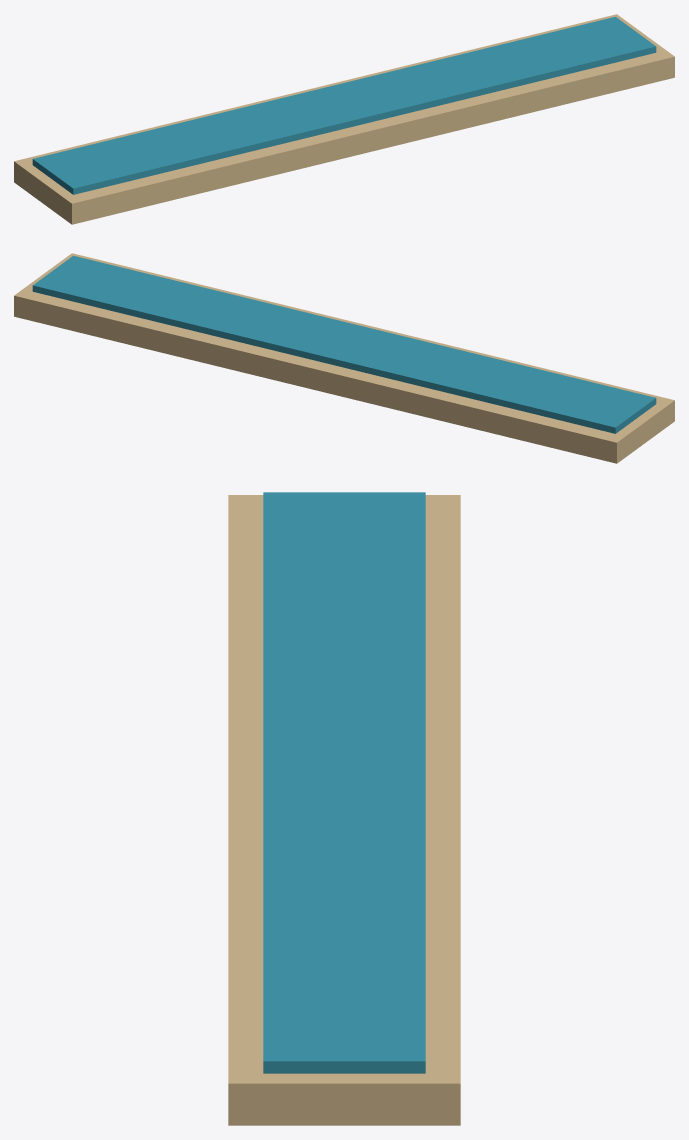
The model's file is Irrigation-channels.glb.
The picture shows the model from 3 angles, top to bottom: view 1: azimuth 30°, elevation 25°; view 2: azimuth 150°, elevation 25°; view 3: azimuth 270°, elevation 25°; orthographic projection. The views are drawn at different scales.
Visible parts, largest first — view 1: irrigation-channels-static-channel-water, irrigation-channels-static-channel-stone; view 2: irrigation-channels-static-channel-water, irrigation-channels-static-channel-stone; view 3: irrigation-channels-static-channel-water, irrigation-channels-static-channel-stone.
Part boxes in pixels (x1,y1,x2,y2): irrigation-channels-static-channel-water: (32, 16, 656, 194); irrigation-channels-static-channel-stone: (14, 14, 674, 224); irrigation-channels-static-channel-water: (32, 255, 656, 433); irrigation-channels-static-channel-stone: (14, 253, 674, 463); irrigation-channels-static-channel-water: (263, 492, 425, 1073); irrigation-channels-static-channel-stone: (228, 495, 460, 1125).
Size of the model in its own units: 6 by 0.26 by 1.
